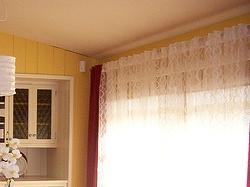pottedplant: (0, 135, 32, 187)
